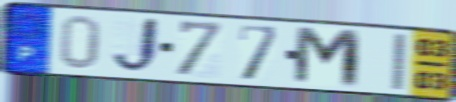0: (57, 13, 102, 72)
7: (175, 19, 226, 79), (238, 23, 280, 83)
I: (390, 32, 409, 92)
J: (109, 15, 162, 77)
M: (291, 24, 364, 91)
